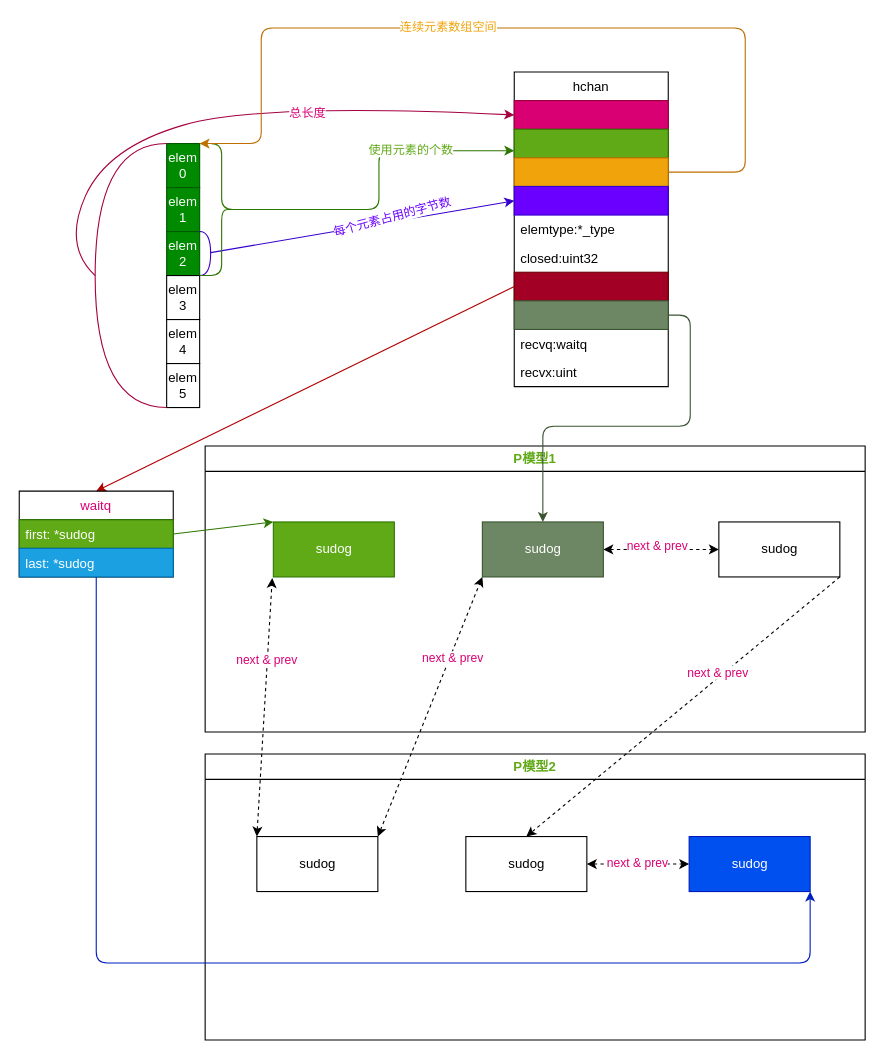
Image size: 884x1059. Some labels were removed from this diagram. The shapes that lost their labels are listed below. From the top down, each one's centre as x and y in pixels, then its label:
At pixel 590 114: "qcount:uint".
At pixel 590 143: "dataqsiz:uint".
At pixel 590 171: "buf:unsafe.Pointer".
At pixel 590 200: "elemsize:uint16".
At pixel 590 286: "sendq:waitq".
At pixel 590 314: "sendx:uint".
